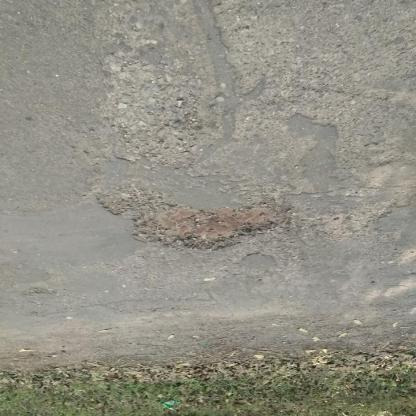pothole: (95, 187, 293, 257)
